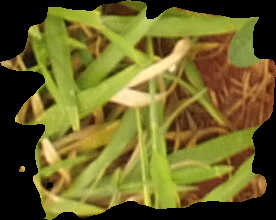grass: (1, 1, 275, 218)
